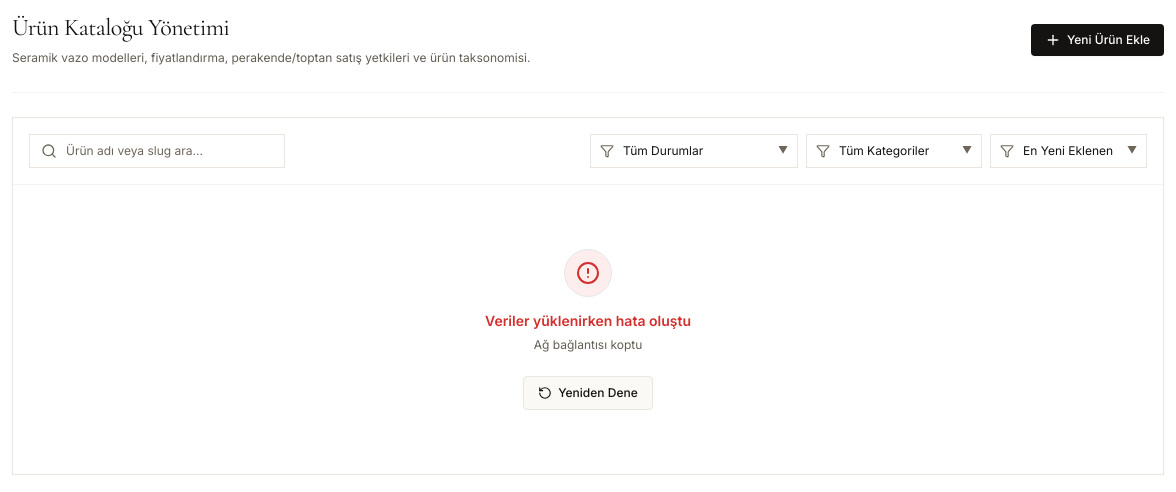
Test: AdminProductsPage Component (Phase 2.5) › renders error state and handles retry button
expect the text "Ağ bağlantısı koptu" is shown: met, box [534,336,642,352]
Step 1. Click the button "Yeniden Dene" → (588, 393), box [523,376,653,410]
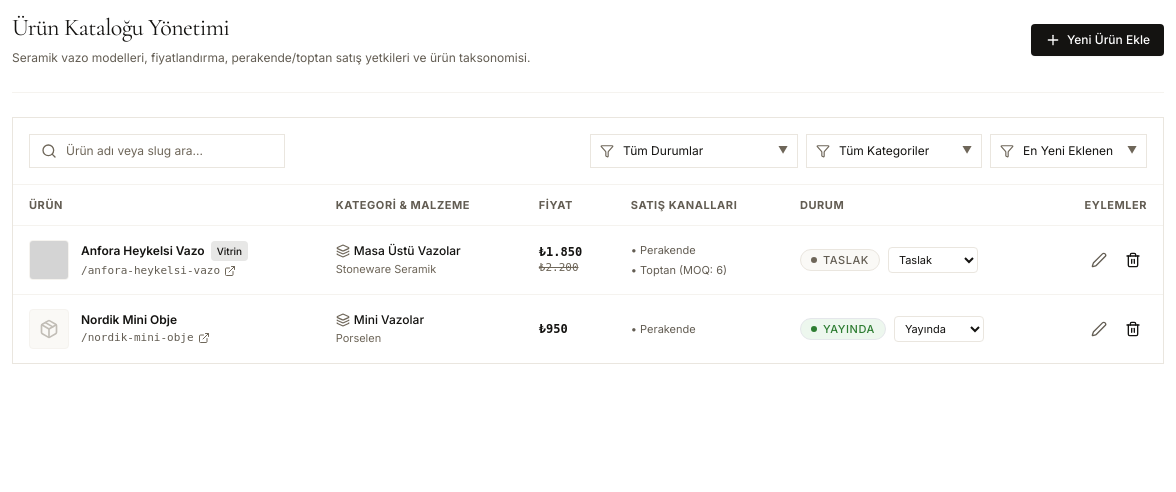
expect the text "Anfora Heykelsi Vazo" is shown: met, box [81,242,205,258]
